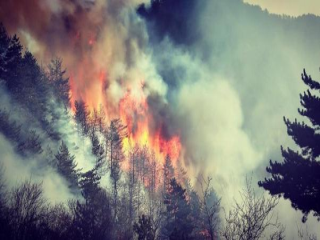fire: (74, 73, 187, 162)
smoke: (182, 18, 307, 206), (25, 2, 180, 98), (4, 86, 79, 217)
